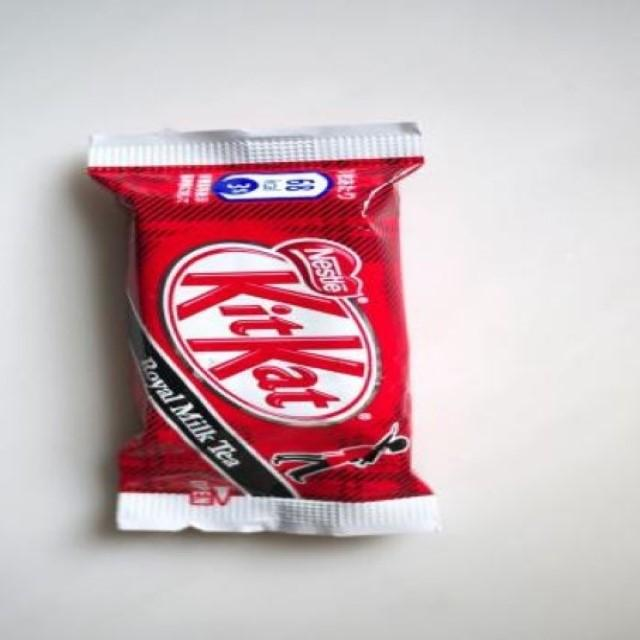kitkat_chocolate: (122, 160, 413, 510)
